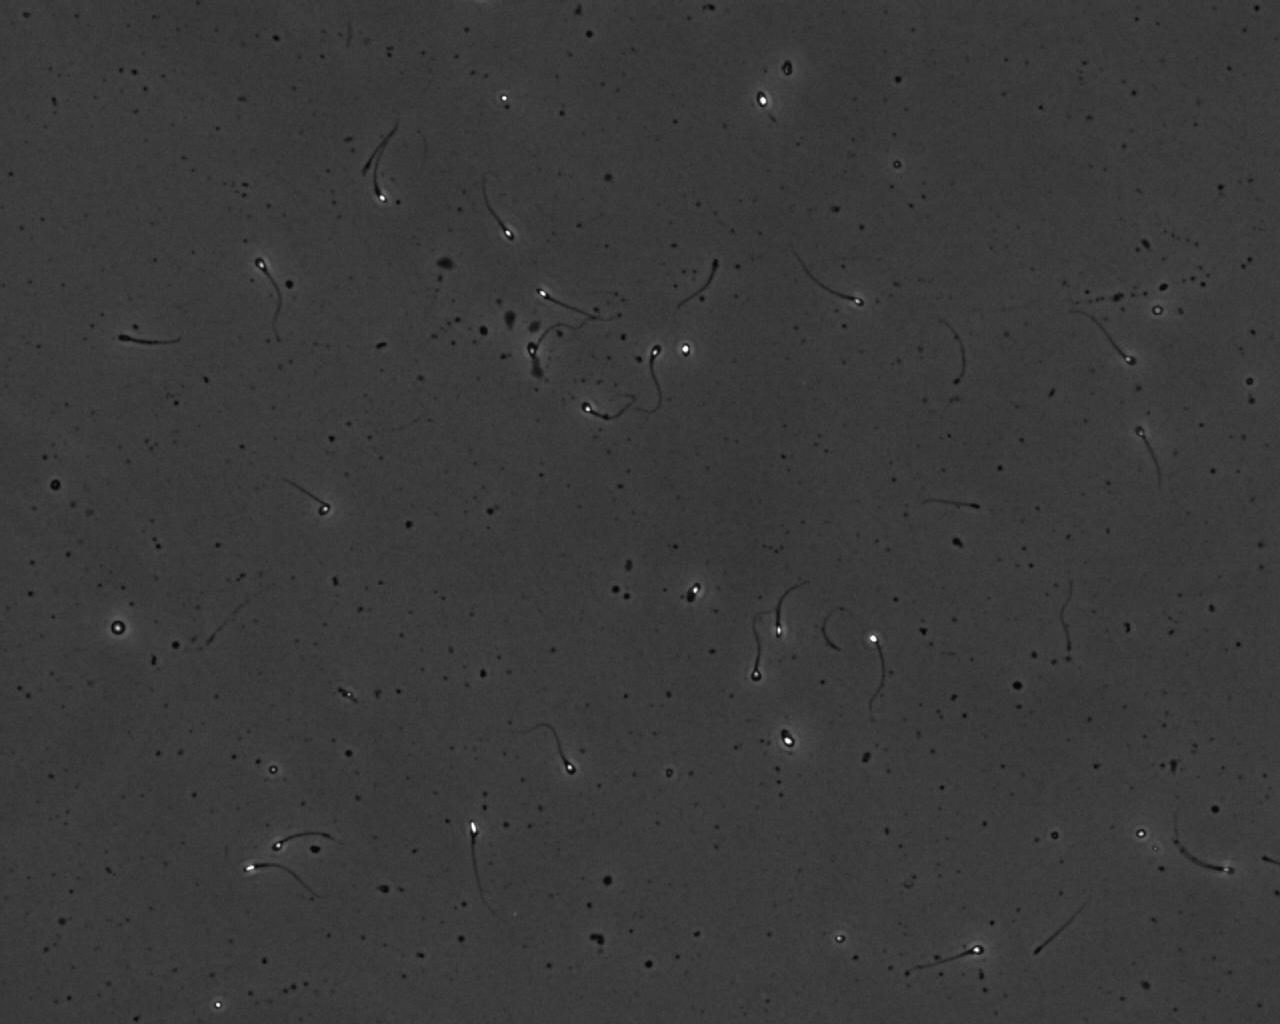cell: (107, 616, 129, 639)
